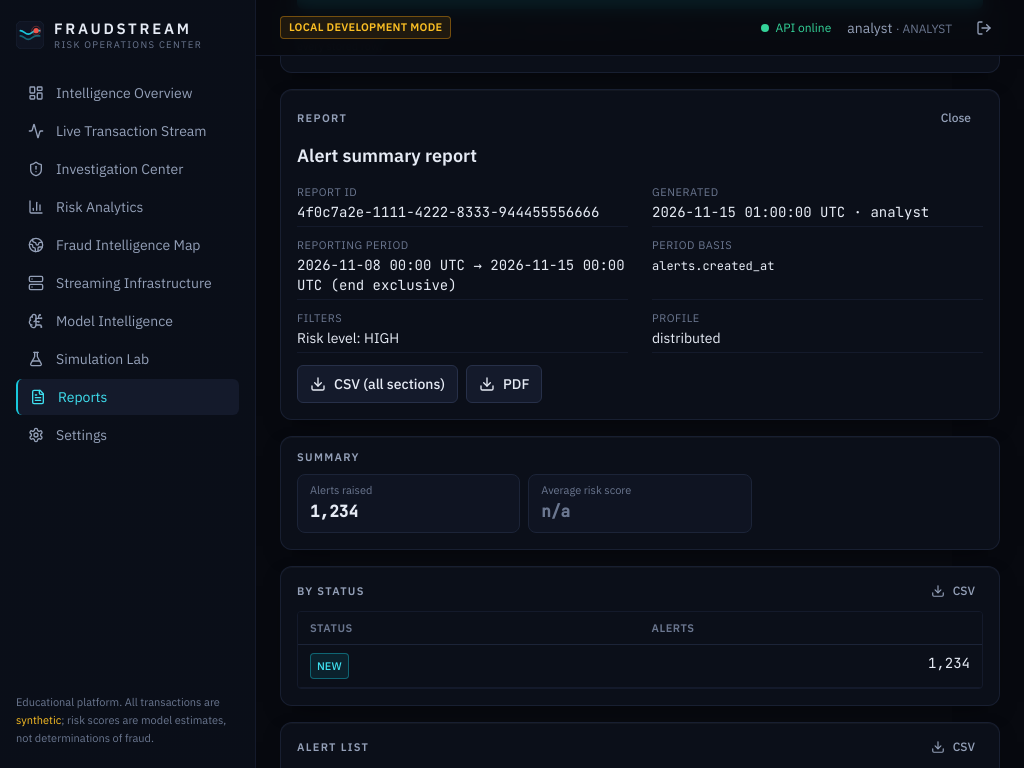
Scenario: Reports page › treats an empty download as a failure
This screenshot has width=1024, height=768.
(page scrolled)
Click the button with test id "export-csv" at (378, 384), box x1=297 y1=365 x2=458 y2=403
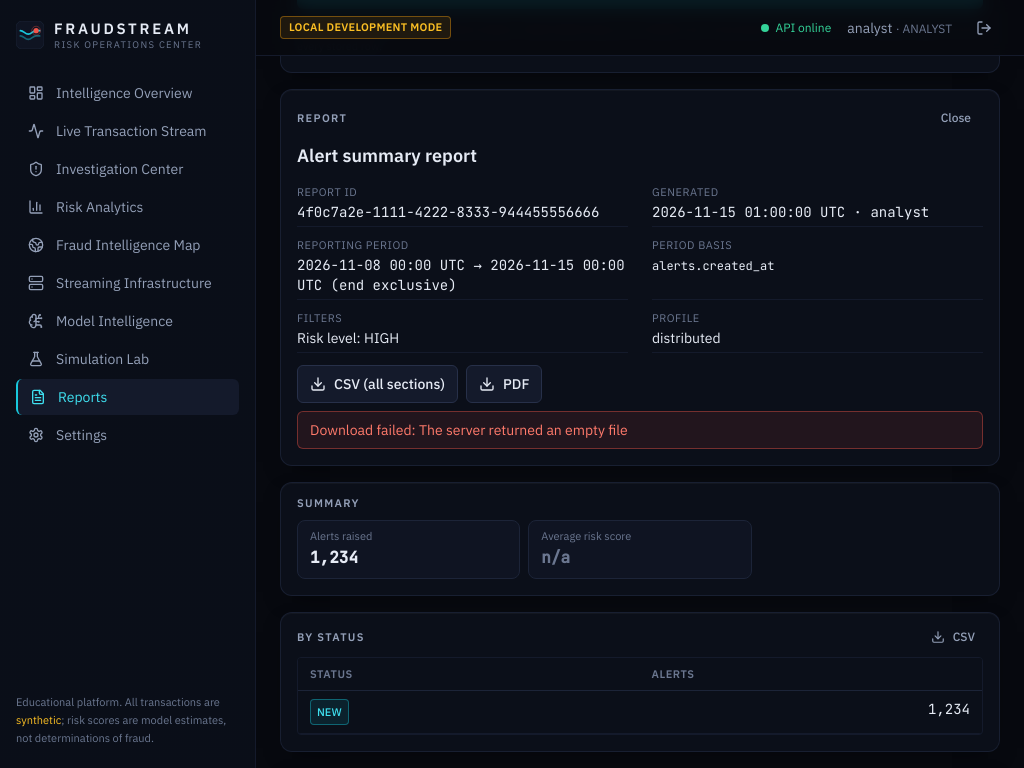
expect the message with test id "export-status" reads "Download failed: The server returned an empty file": met, box x1=310 y1=421 x2=628 y2=439
